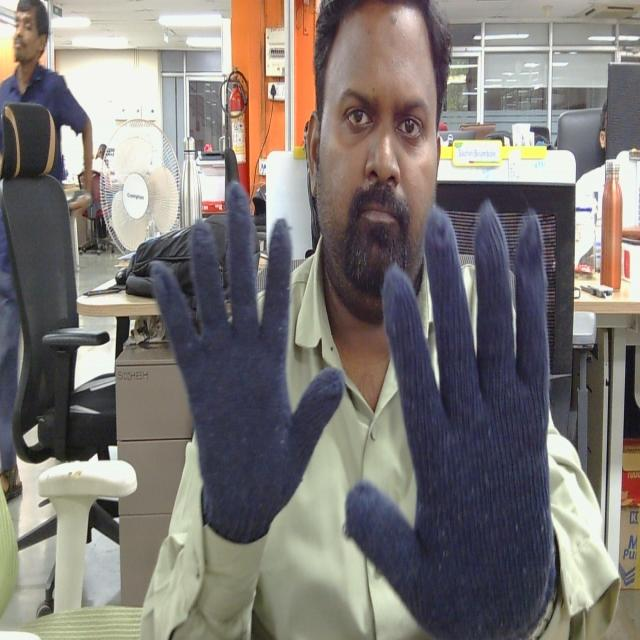Gloves-Detection: (341, 184, 584, 638), (145, 183, 343, 541)
